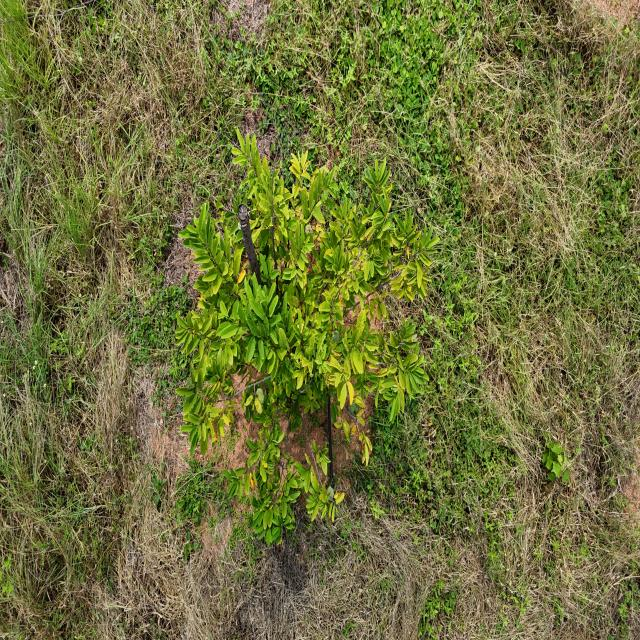notMangoTree: (173, 121, 431, 552)
